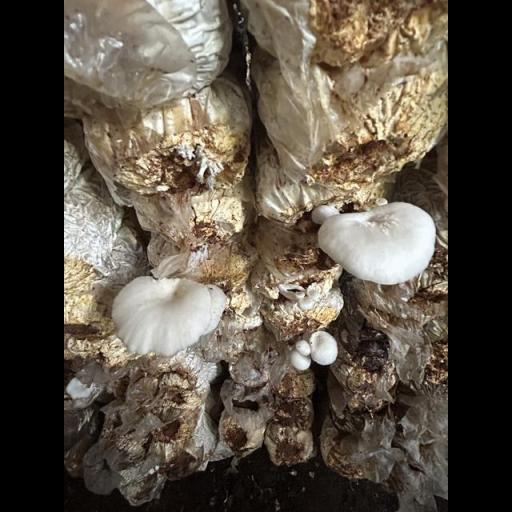White Oyster Mushroom: (305, 191, 442, 290), (108, 254, 237, 357), (291, 331, 337, 371), (65, 377, 96, 402)
